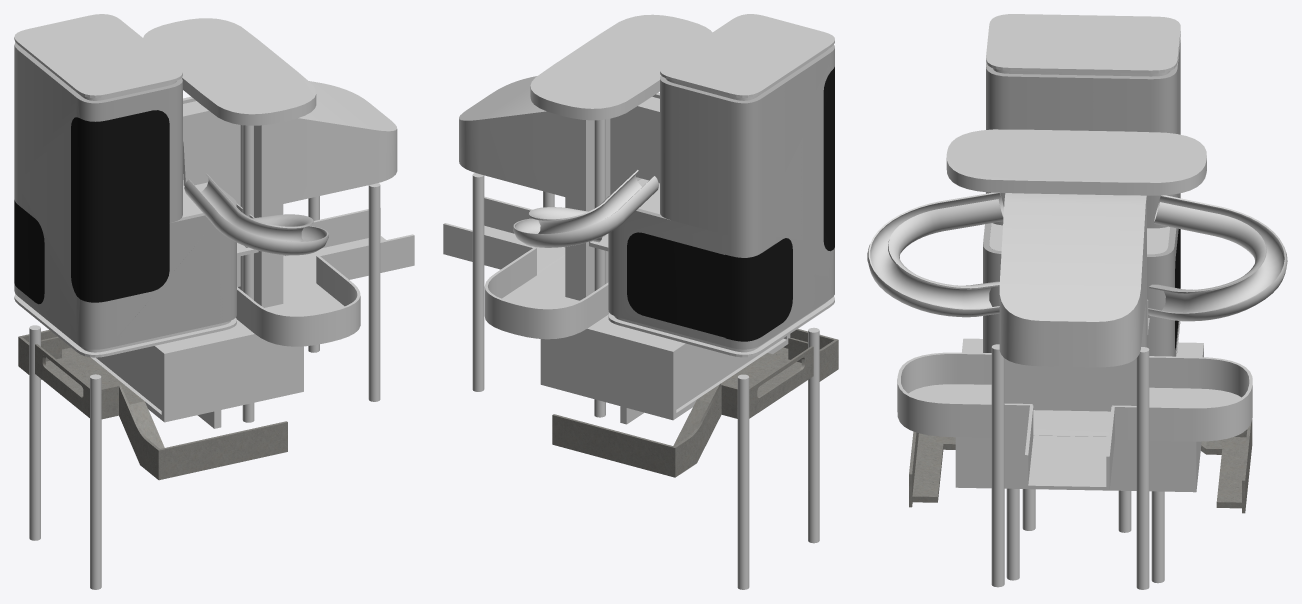
The model's file is unique_house.glb.
3 renders of one model, left to right at view 1: azimuth 30°, elevation 25°; view 2: azimuth 150°, elevation 25°; view 3: azimuth 270°, elevation 25°, orthographic. The views are drawn at different scales.
Visible parts, largest first — view 1: Box032, CARA, Box033, Box040, Group018, Box034, Cylinder004, Box039, Helix005, Helix002, Group019; view 2: Box032, CARA, Box033, Box040, Group018, Box034, Cylinder004, Box039, Helix006, Helix002, Group019; view 3: Box040, CARA, Box032, Box039, Group018, Cylinder004, Group019, Helix005, Helix006, Box034.
Boxes of the visible parts, x1,y1,x2,y2 form: Box032: [14, 42, 236, 349]; CARA: [18, 18, 316, 480]; Box033: [14, 110, 169, 304]; Box040: [238, 81, 397, 307]; Group018: [14, 14, 236, 357]; Box034: [91, 320, 303, 422]; Cylinder004: [29, 125, 380, 589]; Box039: [236, 208, 414, 346]; Helix005: [184, 174, 328, 255]; Helix002: [183, 96, 240, 286]; Group019: [265, 235, 385, 315]; Box032: [608, 45, 834, 349]; CARA: [530, 14, 838, 477]; Box033: [627, 67, 834, 341]; Box040: [459, 76, 610, 300]; Group018: [608, 14, 834, 357]; Box034: [540, 314, 790, 420]; Cylinder004: [472, 119, 819, 589]; Box039: [443, 196, 609, 339]; Helix006: [513, 170, 658, 247]; Helix002: [610, 92, 659, 194]; Group019: [484, 225, 579, 307]; Box040: [999, 193, 1146, 411]; CARA: [909, 129, 1252, 513]; Box032: [983, 34, 1180, 356]; Box039: [897, 352, 1252, 489]; Group018: [986, 14, 1180, 356]; Cylinder004: [991, 344, 1164, 589]; Group019: [909, 384, 1241, 489]; Helix005: [867, 192, 1003, 317]; Helix006: [1148, 195, 1287, 321]; Box034: [955, 338, 1203, 492].
Bounding box in the file's own units: 15.39 × 21.37 × 14.68.
Materials: 6 (1 with a texture image).
